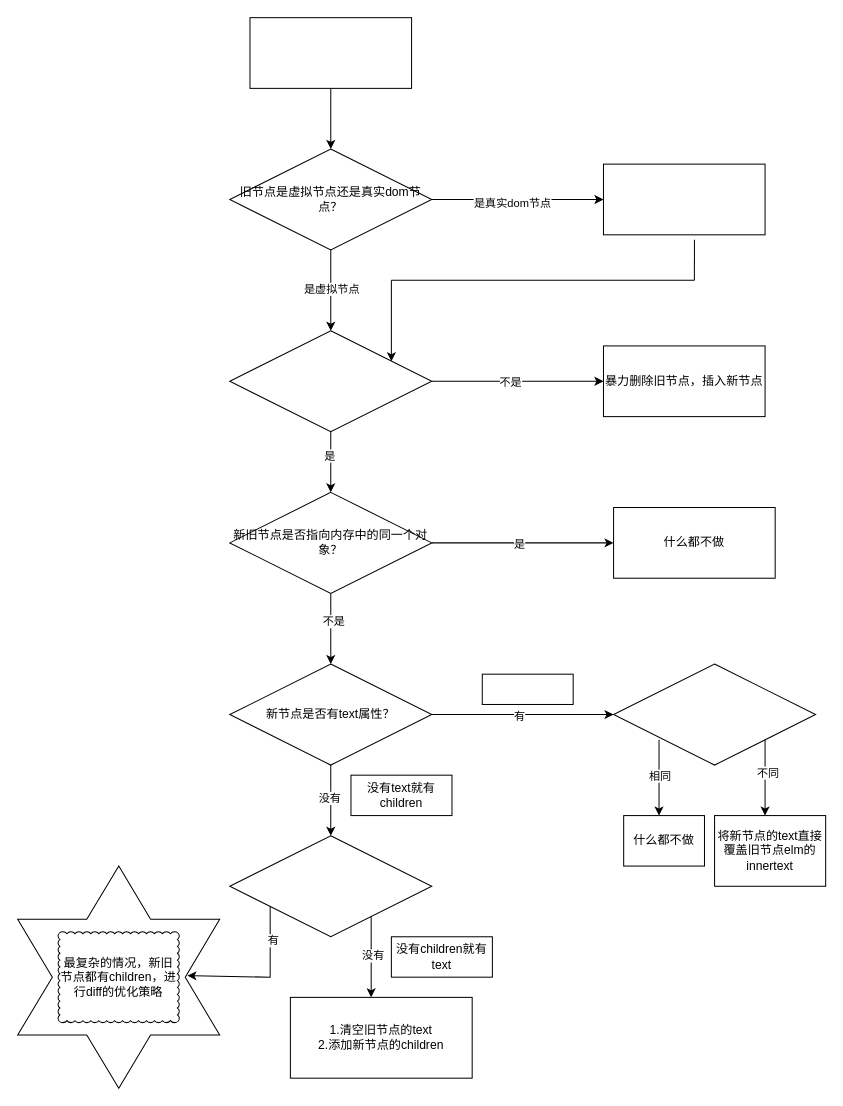
This 843x1106 diagram has some shape labels left out. Each missing label, with the box of its shape:
将旧节点包装为虚拟节点: (602, 163, 765, 235)
新旧节点是否是同一个节点？ 即相同的key与sel: (229, 330, 432, 432)
新旧节点的text属性是否相同？: (613, 663, 816, 765)
旧节点有没有children？: (229, 835, 432, 937)
有text无children: (481, 673, 573, 704)
调用patch函数: (249, 17, 412, 88)
